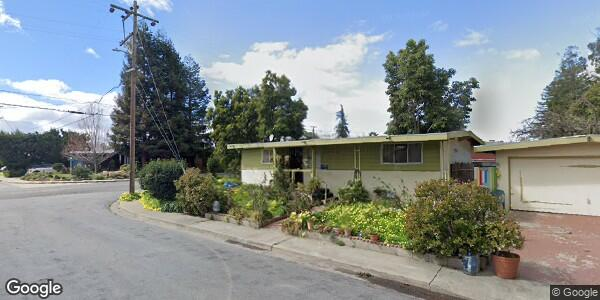Wood_Pole: (106, 1, 160, 197)
